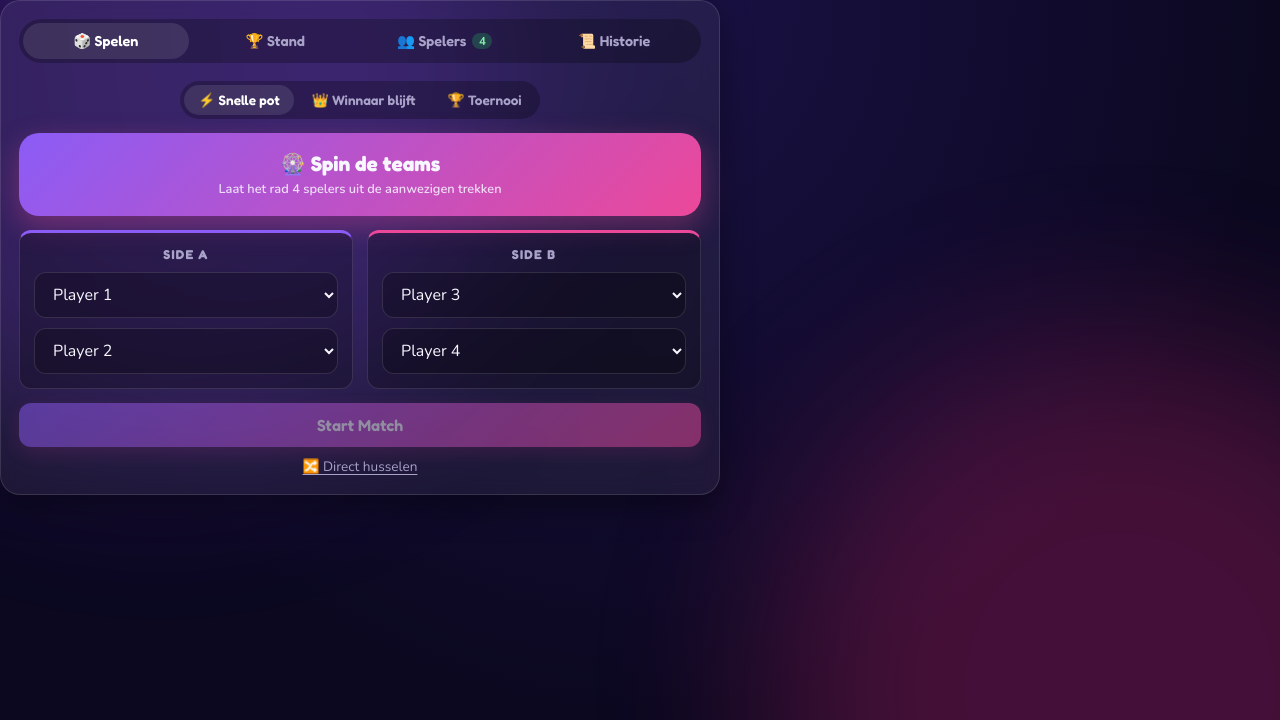
players: a new evening asks for confirmation and resets presence
Check: the tab "🎲 Spelen" is shown, box [23,23,188,59]
What coordinates should you click on to do the following:
click the tab "👥 Spelers 4"
I would click on:
 (445, 41)
Its box is [362,23,528,59].
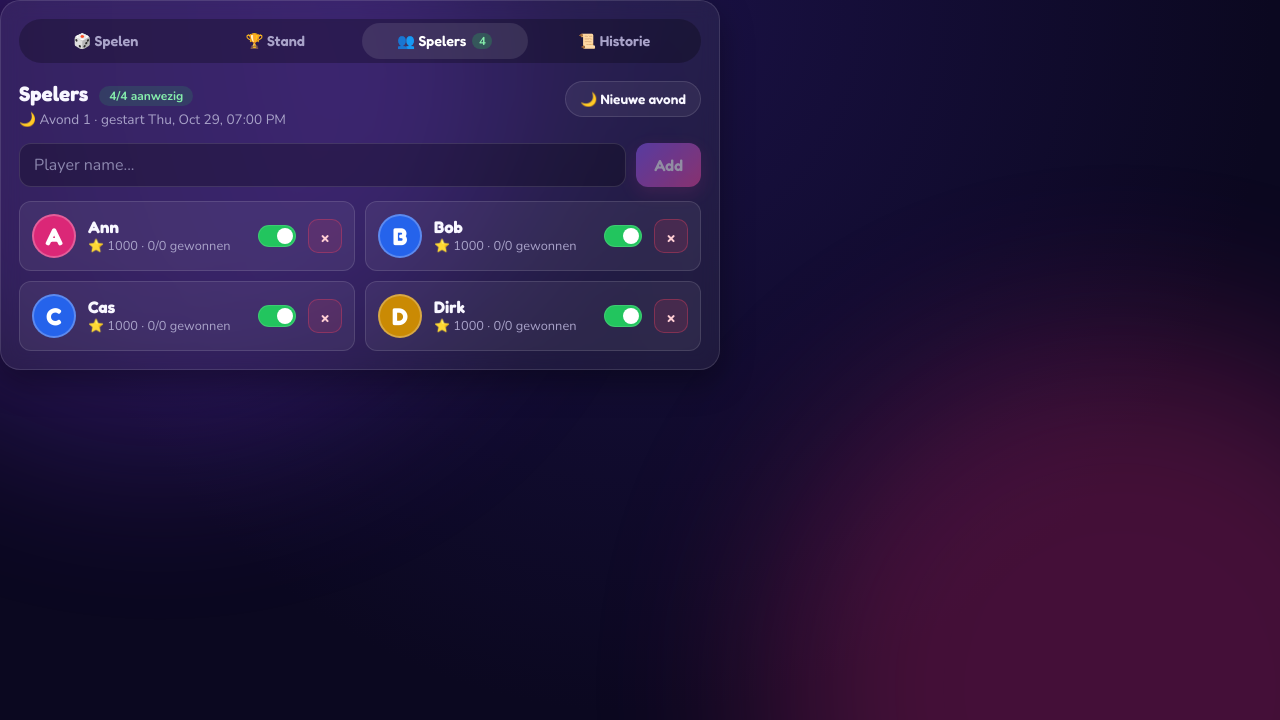
What coordinates should you click on to do the following:
click the button "🌙 Nieuwe avond"
I would click on:
 (633, 99)
Its box is [565,81,701,117].
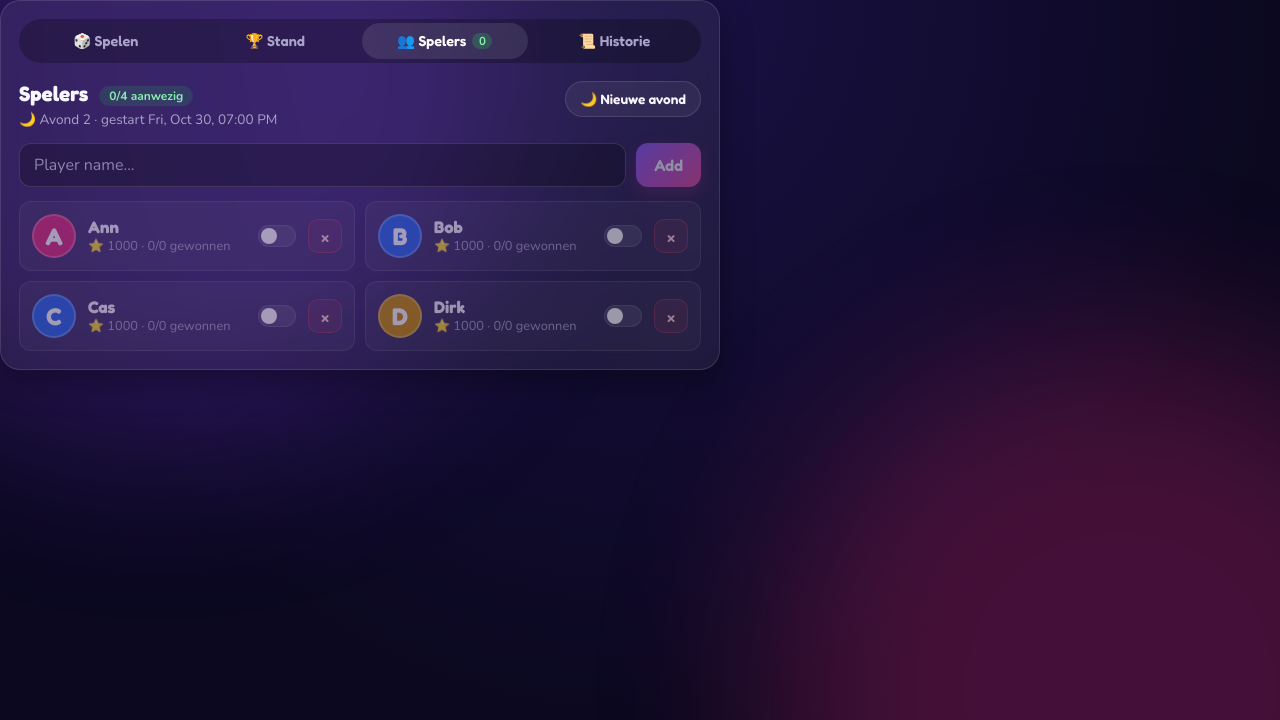
Check: the text "🌙 Avond 2 · gestart Fri, Oct 30, 07:00 PM" is shown, box [19,110,277,129]
